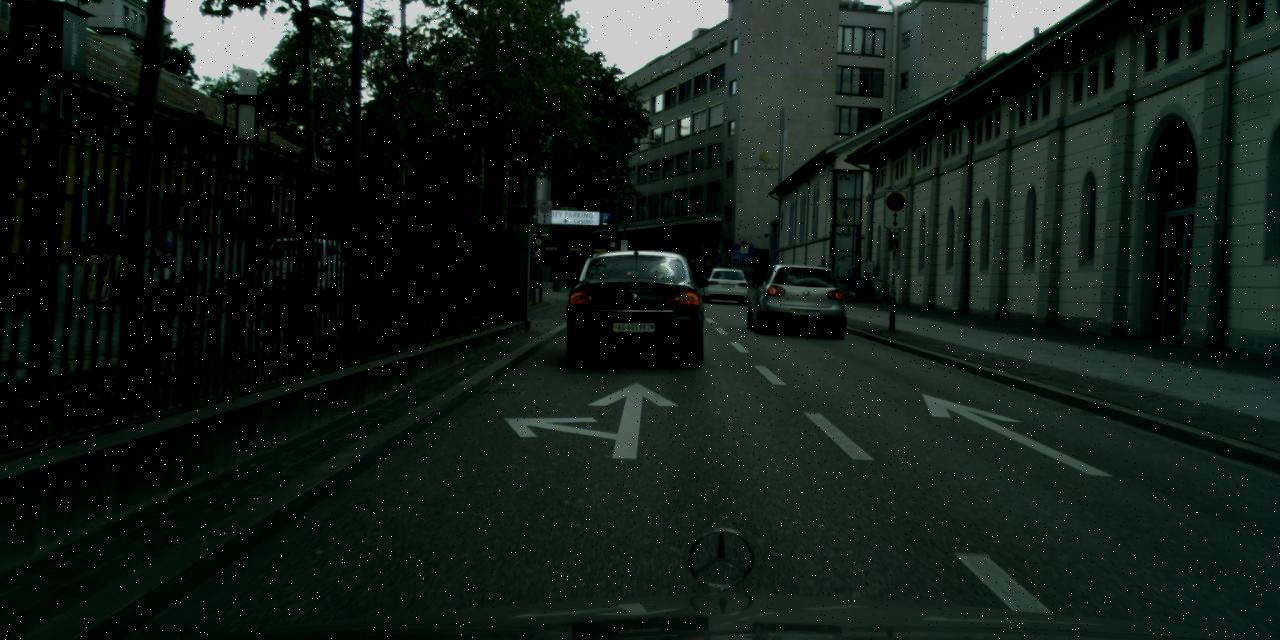ped: (816, 258, 830, 296), (847, 265, 859, 297)
